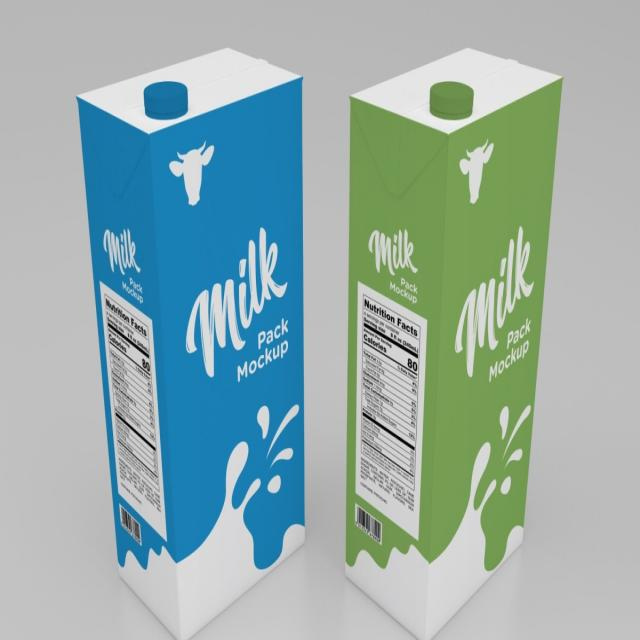non_white_jug: (68, 39, 310, 617), (346, 37, 553, 621)
